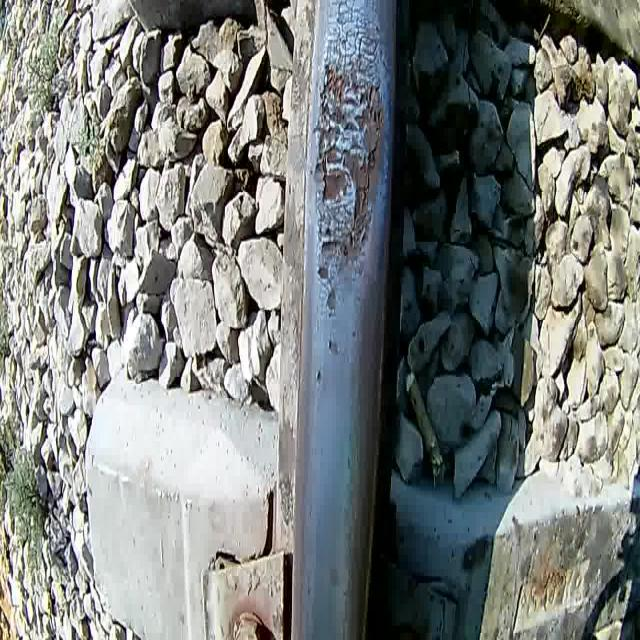Cracks: (318, 0, 391, 73)
Spallings: (315, 62, 386, 253)
Squats: (309, 0, 400, 283), (324, 325, 342, 365), (322, 285, 342, 319)
